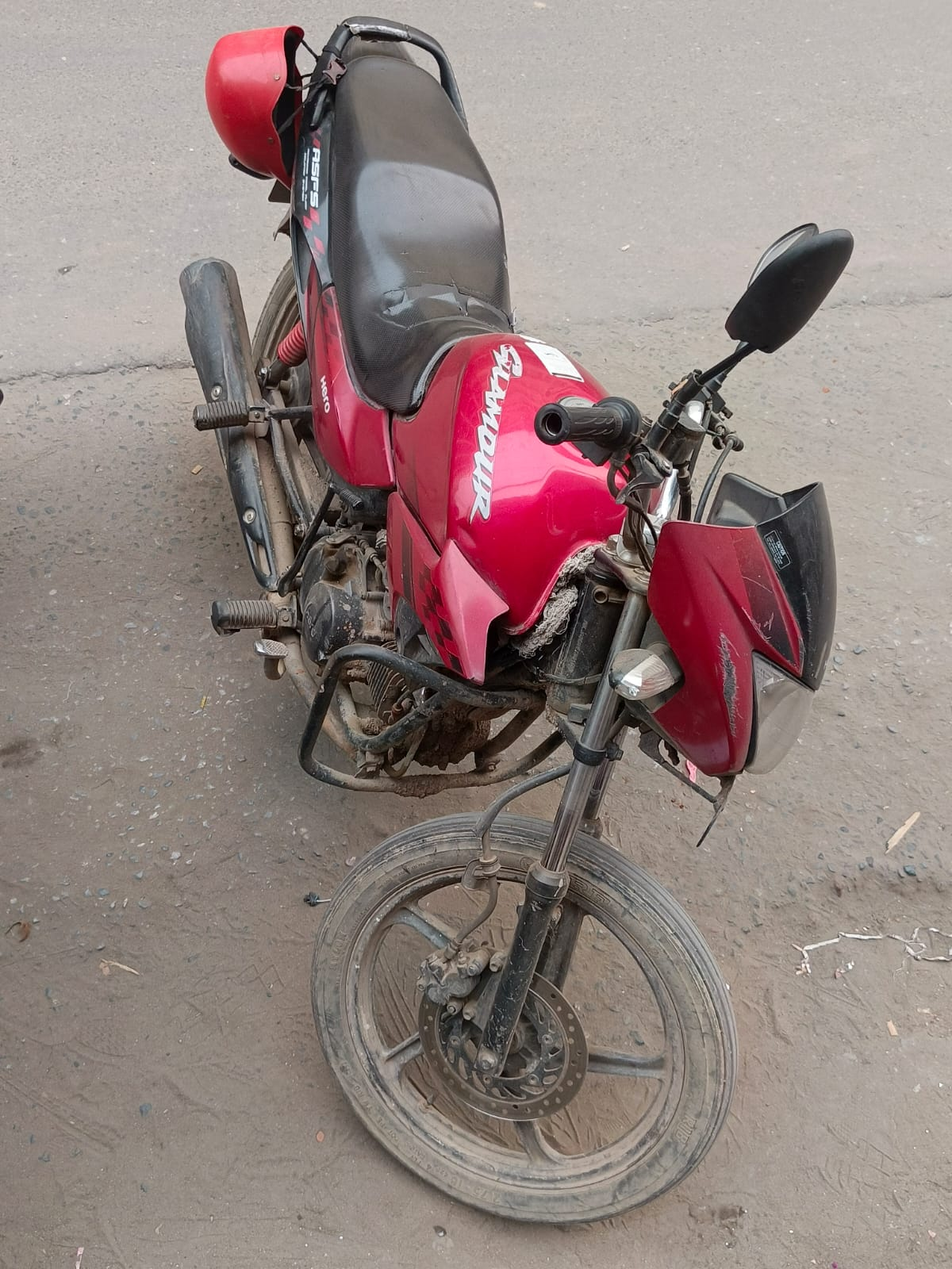Bikes: (143, 13, 852, 1269)
